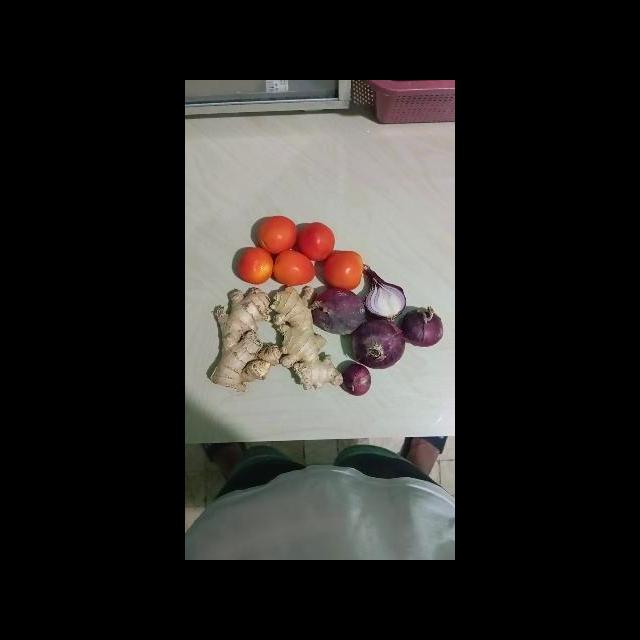ginger: (207, 284, 286, 394), (269, 286, 347, 391)
onion: (356, 259, 410, 322), (349, 314, 408, 370), (311, 286, 367, 336), (397, 304, 444, 350), (339, 361, 375, 400)
